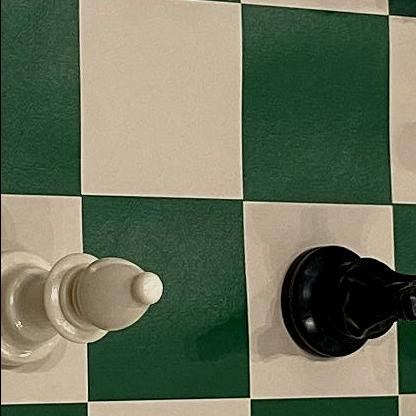black-knight: (278, 231, 416, 378)
white-bishop: (0, 247, 172, 372)
